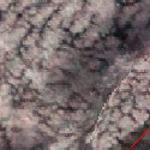alive: (3, 3, 149, 146)
